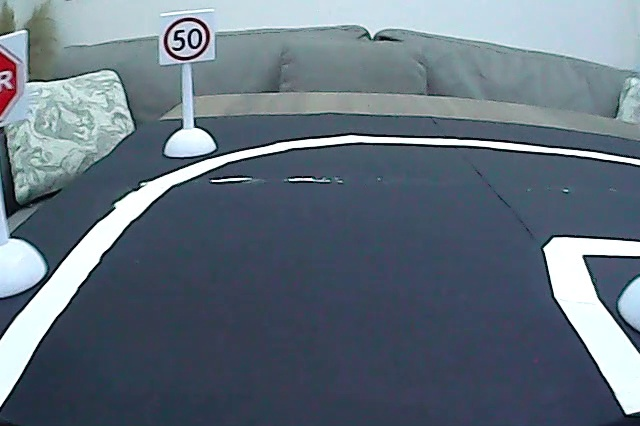speed limit 50: (161, 13, 212, 64)
